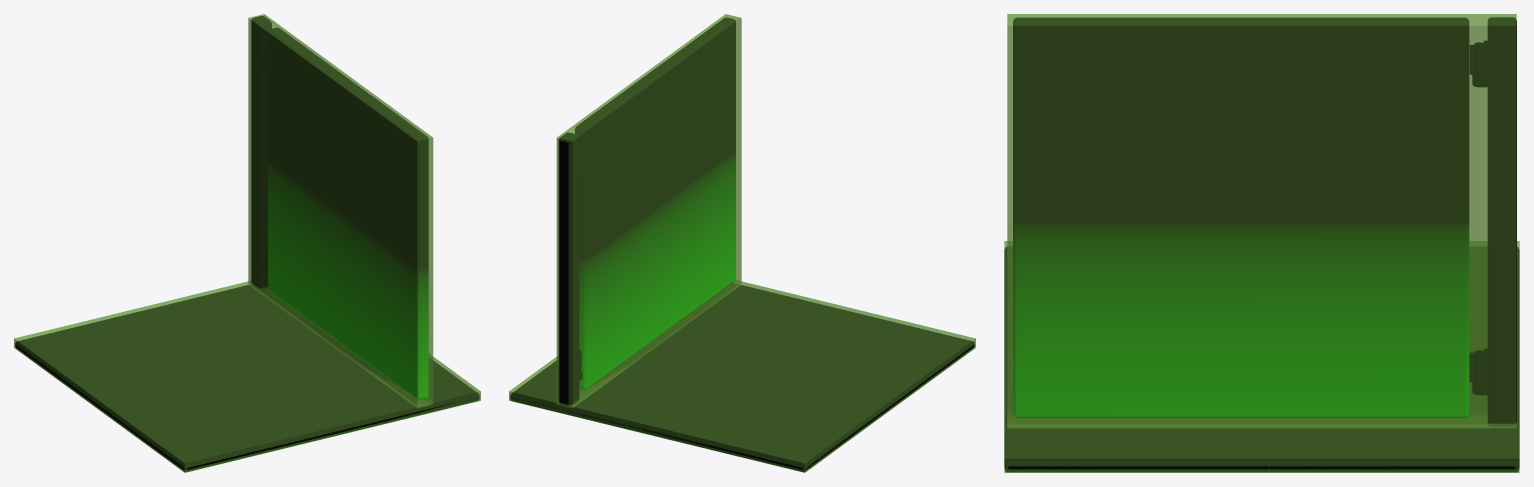
The model's file is M_md_Door_1m_01.fbx.
3 views of the same model, side by side, from view 1: azimuth 30°, elevation 25°; view 2: azimuth 150°, elevation 25°; view 3: azimuth 270°, elevation 25° (orthographic). The views are drawn at different scales.
Visible parts, largest first — view 1: M_md_Door_1m_01_LOD0, M_md_Door_1m_01_col_02, M_md_Door_1m_01_col_01; view 2: M_md_Door_1m_01_LOD0, M_md_Door_1m_01_col_02, M_md_Door_1m_01_col_01; view 3: M_md_Door_1m_01_LOD0, M_md_Door_1m_01_col_02, M_md_Door_1m_01_col_01.
Boxes of the visible parts, x1,y1,x2,y2 form: M_md_Door_1m_01_LOD0: (15, 16, 479, 472); M_md_Door_1m_01_col_02: (248, 14, 433, 407); M_md_Door_1m_01_col_01: (14, 281, 480, 472); M_md_Door_1m_01_LOD0: (510, 17, 974, 472); M_md_Door_1m_01_col_02: (556, 14, 741, 407); M_md_Door_1m_01_col_01: (509, 280, 975, 472); M_md_Door_1m_01_LOD0: (1004, 17, 1519, 472); M_md_Door_1m_01_col_02: (1007, 14, 1516, 427); M_md_Door_1m_01_col_01: (1004, 241, 1519, 472).
Size of what is drawn, in the model's own units: 100 by 88.42 by 100.
